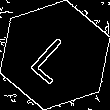L_NE: (26, 26, 84, 84)
